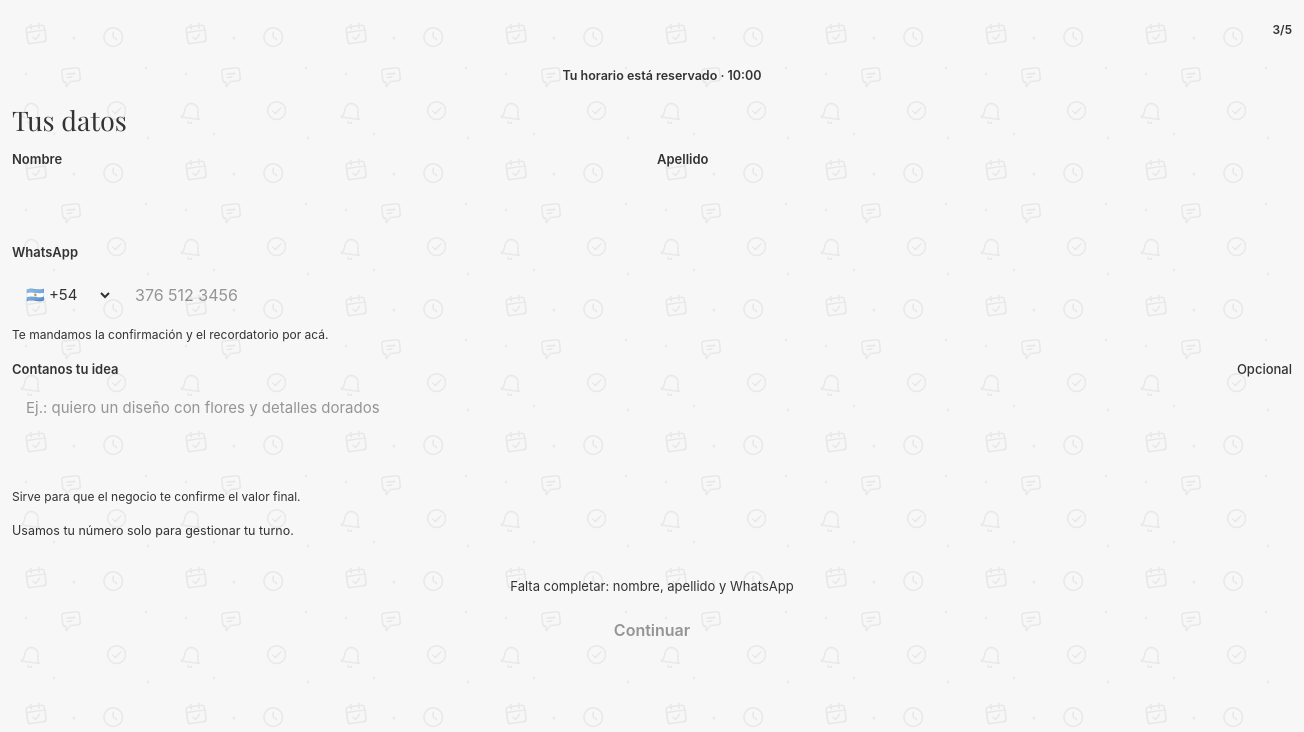
Test: DatosScreen › pegar un numero completo con + elige el pais solo
Click the field labelled "WhatsApp".
click(706, 295)  # box [121, 269, 1292, 321]
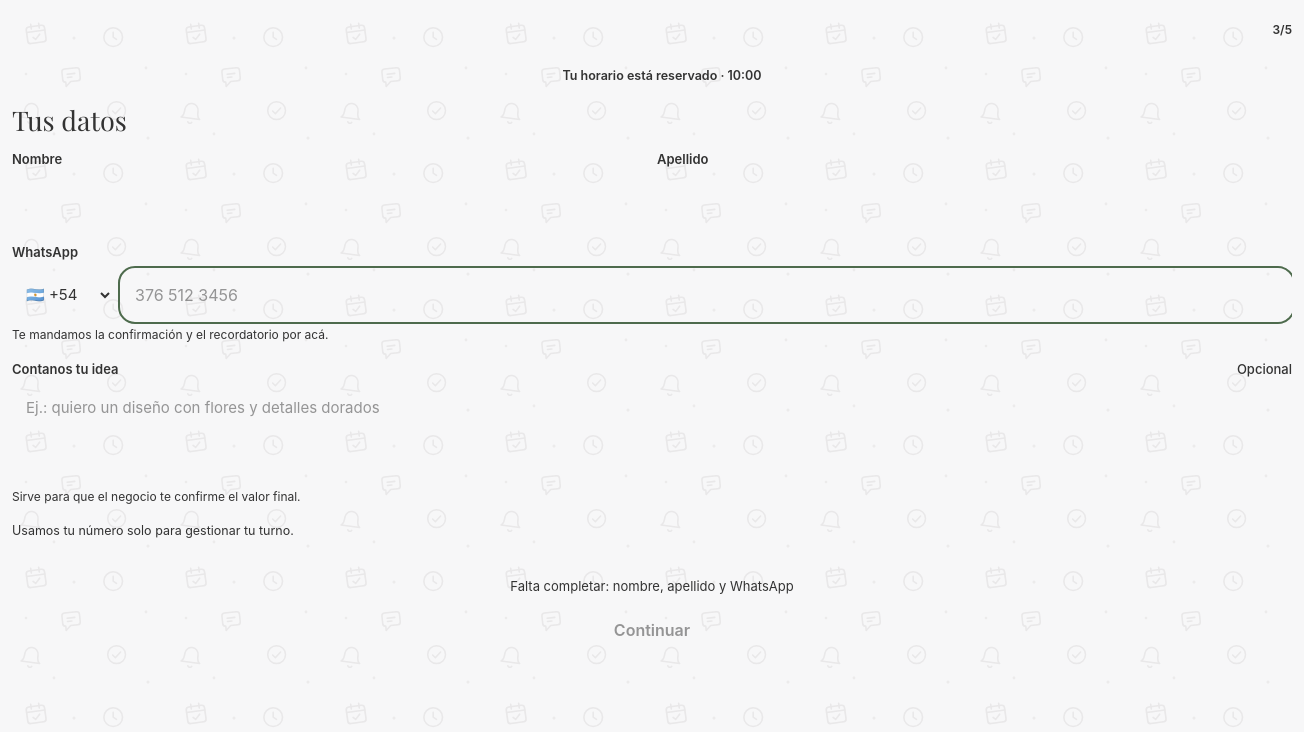
Type keys "+598 99 123 456"
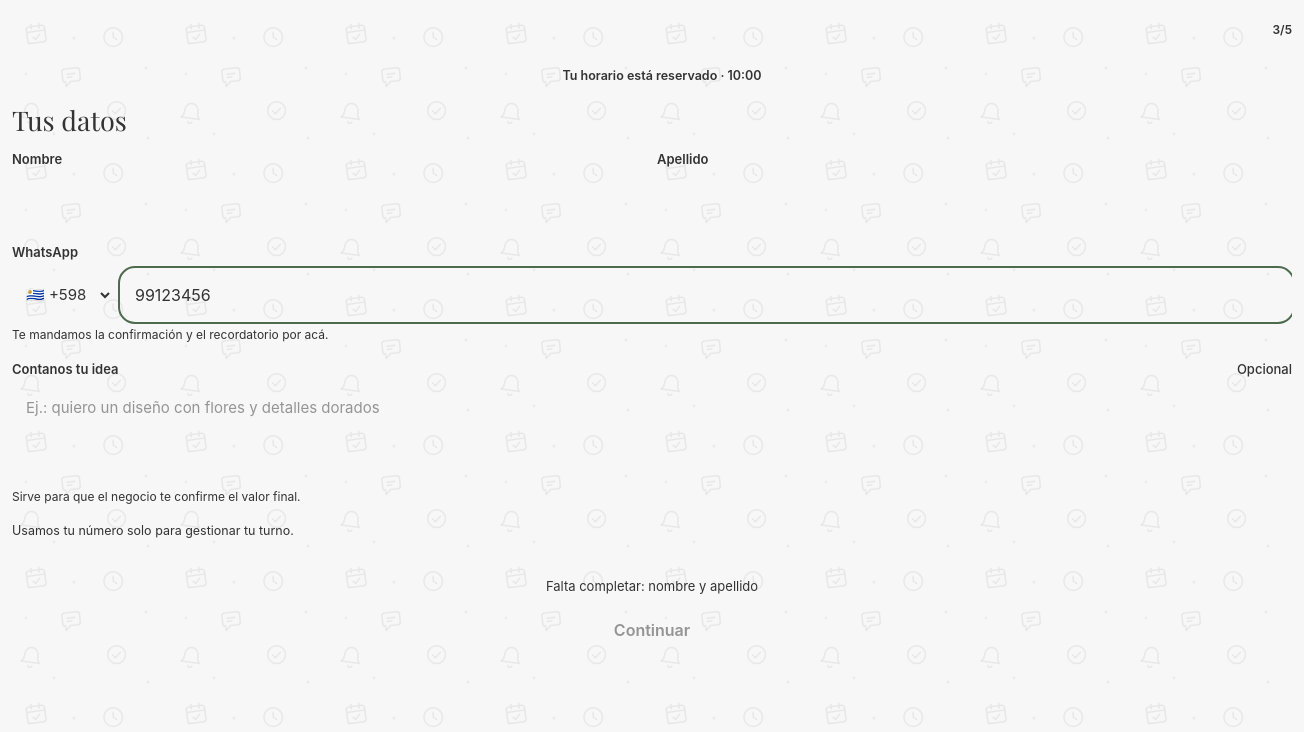
Now the dropdown named "Código de país" shows "🇺🇾 +598", box [12, 269, 113, 321]
Now the field labelled "WhatsApp" holds "99123456", box [121, 269, 1292, 321]
